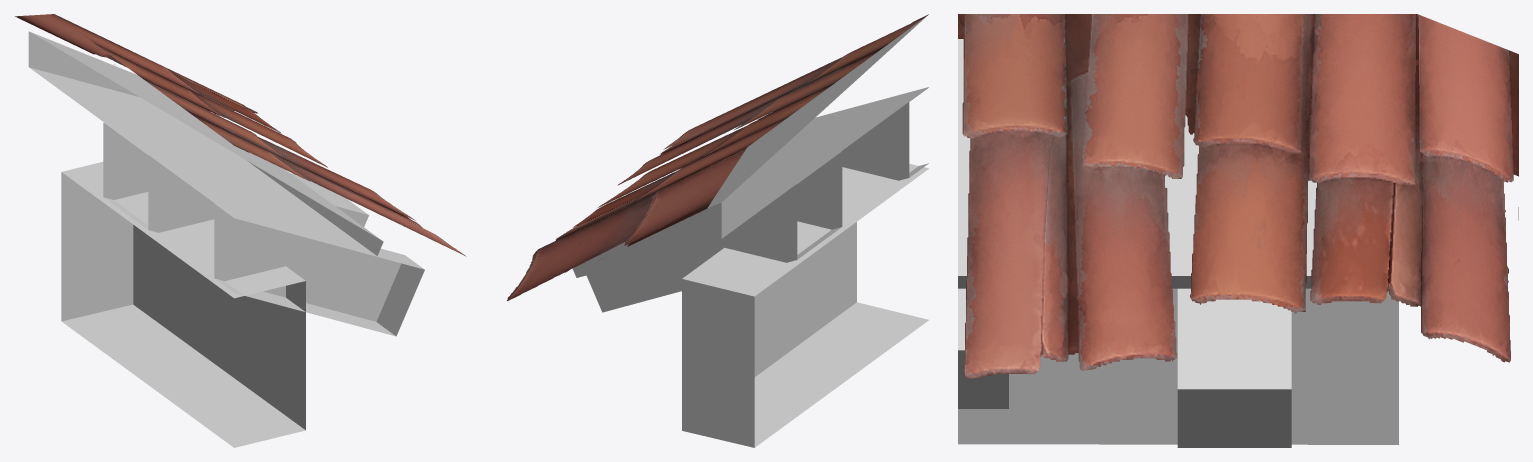
The model's file is WallKit_Verge_End_Left_LOD1.fbx.
3 views of the same model, side by side, from view 1: azimuth 30°, elevation 25°; view 2: azimuth 150°, elevation 25°; view 3: azimuth 270°, elevation 25° (orthographic). The views are drawn at different scales.
Visible parts, largest first — view 1: WallKit_Verge_End_Left_LOD1; view 2: WallKit_Verge_End_Left_LOD1; view 3: WallKit_Verge_End_Left_LOD1.
Boxes of the visible parts, <box> form: WallKit_Verge_End_Left_LOD1: <box>15,14,465,447</box>; WallKit_Verge_End_Left_LOD1: <box>507,14,928,447</box>; WallKit_Verge_End_Left_LOD1: <box>958,14,1518,447</box>.
Bounding box in the file's own units: 68.21 × 83.55 × 110.
